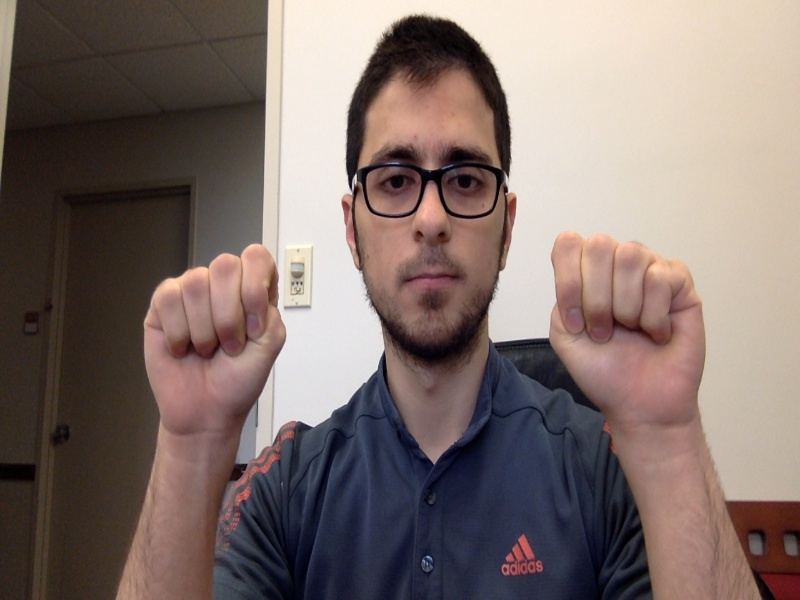0-hand: (549, 230, 704, 430), (142, 244, 285, 432)
